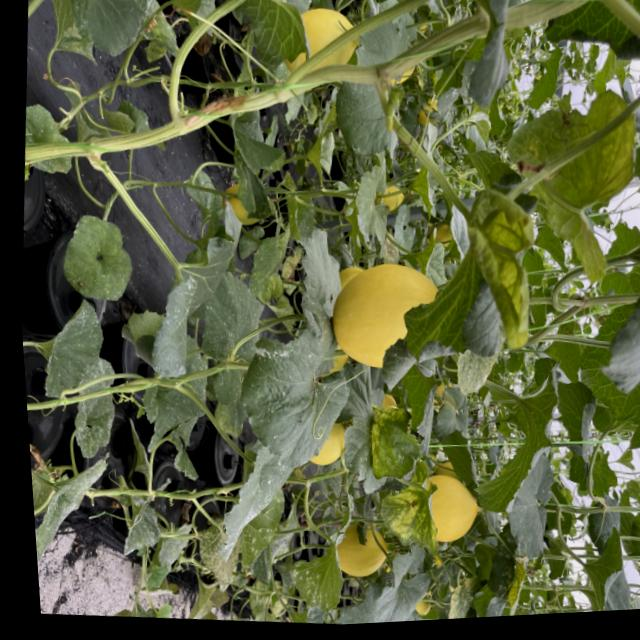downy mildew: (225, 289, 352, 487), (55, 207, 140, 311), (372, 470, 447, 566), (361, 396, 428, 487)
powdery mildew: (279, 493, 361, 618), (30, 450, 114, 570), (29, 296, 112, 406), (137, 272, 205, 387)
